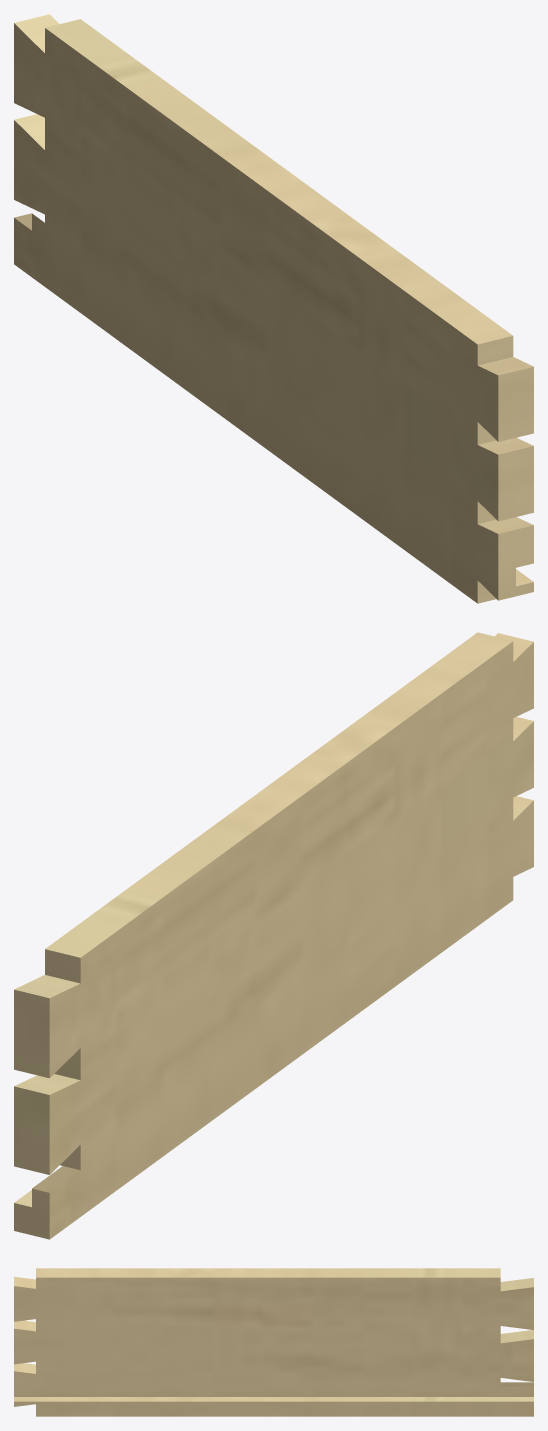
Rendered from original-4.obj.
3 renders of one model, top to bottom at view 1: azimuth 30°, elevation 25°; view 2: azimuth 150°, elevation 25°; view 3: azimuth 270°, elevation 25°, orthographic. The views are drawn at different scales.
Visible parts, largest first — view 1: Group5/mesh7/mesh7-geometry#mesh7-geometry; view 2: Group5/mesh7/mesh7-geometry#mesh7-geometry; view 3: Group5/mesh7/mesh7-geometry#mesh7-geometry.
Boxes of the visible parts, x1=… form: Group5/mesh7/mesh7-geometry#mesh7-geometry: x1=14, y1=14, x2=533, y2=603; Group5/mesh7/mesh7-geometry#mesh7-geometry: x1=14, y1=632, x2=533, y2=1239; Group5/mesh7/mesh7-geometry#mesh7-geometry: x1=14, y1=1268, x2=533, y2=1416.
Size of the model in its own units: 0.0196 by 0.136 by 0.4608.
